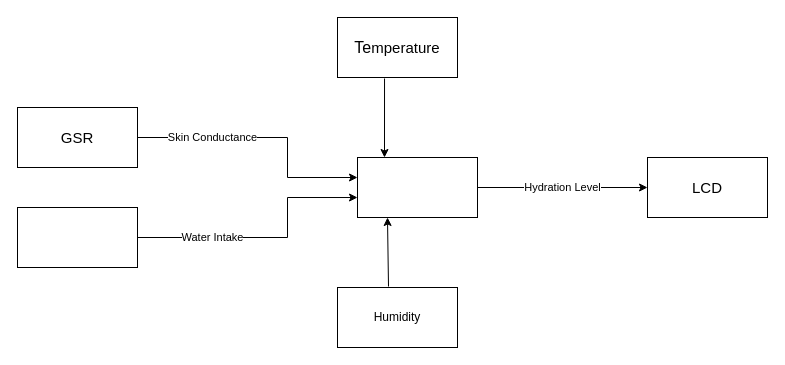
Image size: 785x365. Some labels were removed from this diagram. Each missing label, with the centre of its shape:
"Arduino Nano" belongs at point (417, 187).
"Ultrasound Sensor" belongs at point (77, 237).
